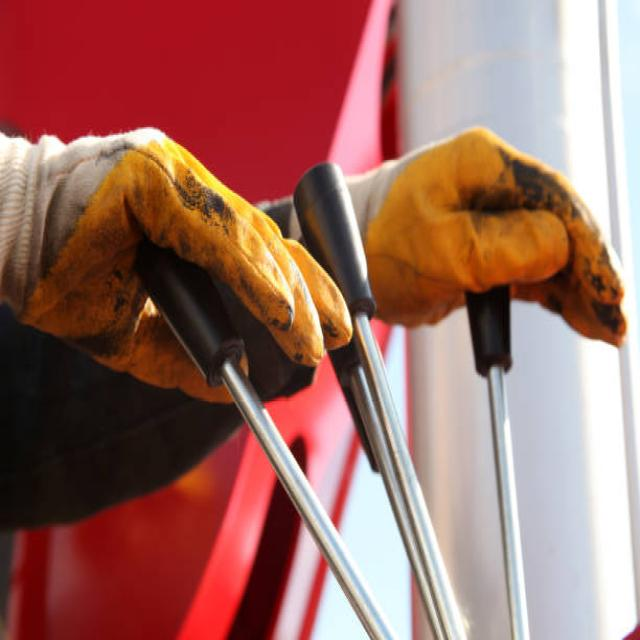gloves: (0, 127, 352, 404), (250, 124, 628, 347)
